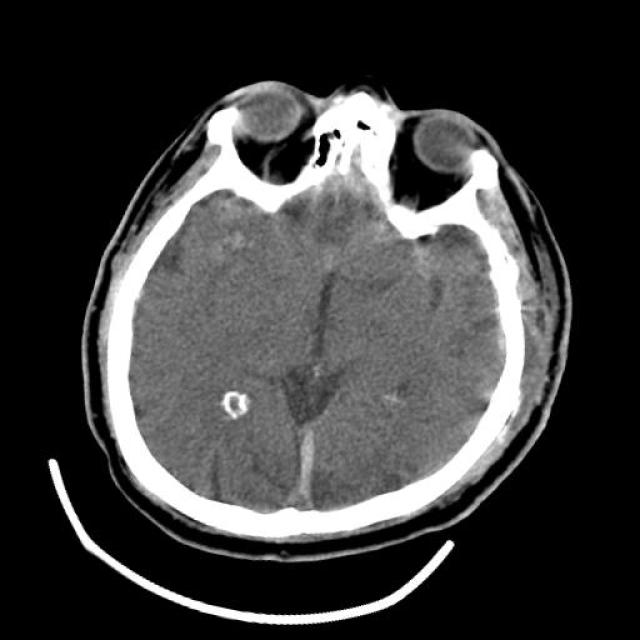Subarachnoid: (397, 241, 455, 297)
Subdural: (256, 397, 342, 512)
